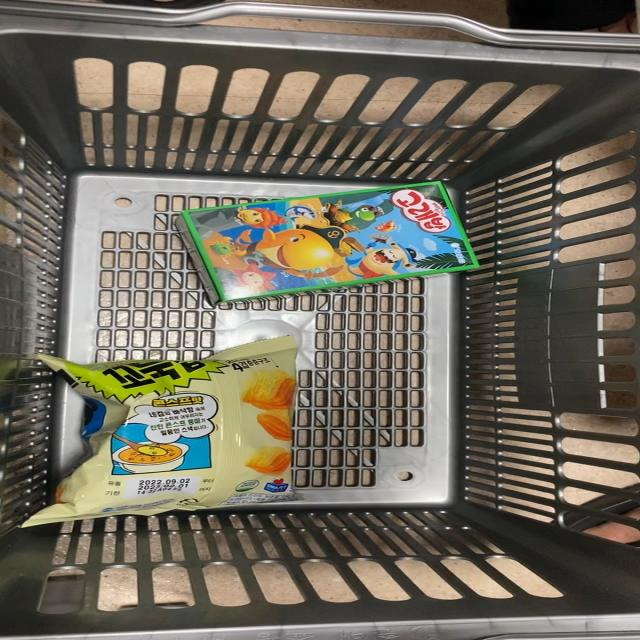ggobukchip: (57, 326, 304, 536)
goraebob: (153, 165, 511, 317)
